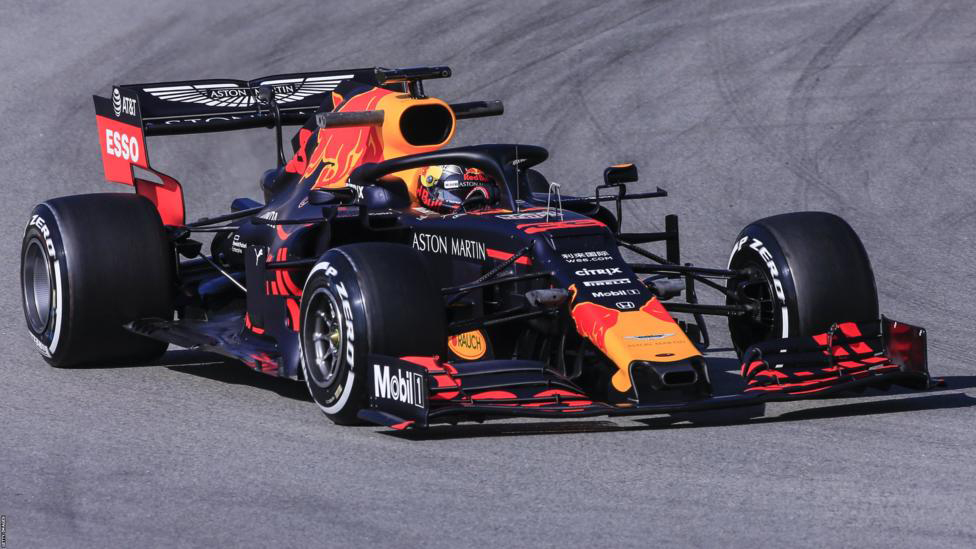F1 Car: (19, 62, 953, 448)
